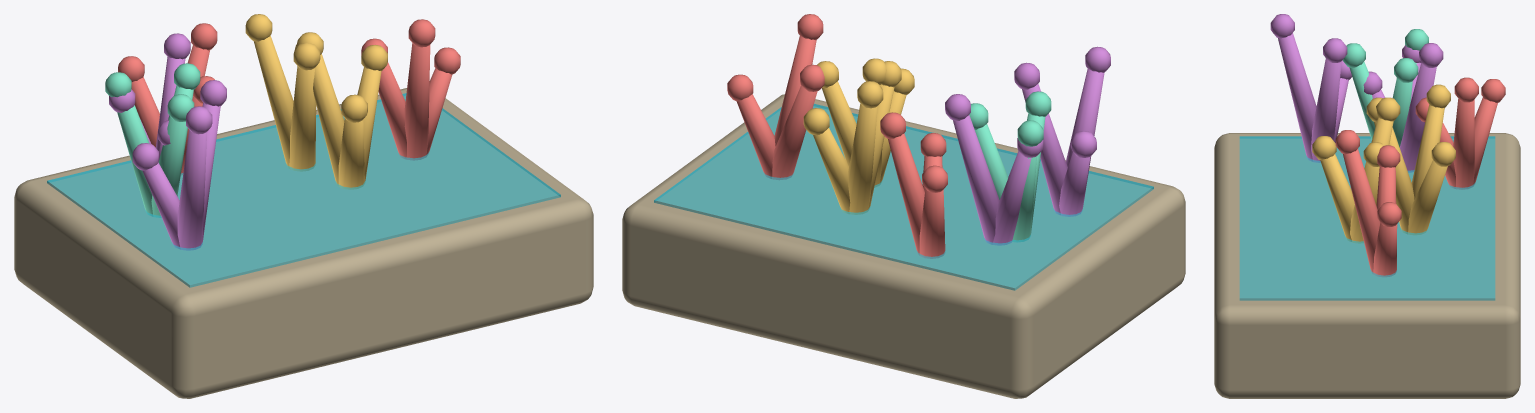
The model's file is coral.glb.
The picture shows the model from 3 angles, left to right: view 1: azimuth 30°, elevation 25°; view 2: azimuth 150°, elevation 25°; view 3: azimuth 270°, elevation 25°; orthographic projection. The views are drawn at different scales.
Parts seen in each view (by area): view 1: coral; view 2: coral; view 3: coral.
Boxes of the visible parts, left/top/right/bottom form: coral: left=14, top=14, right=593, bottom=398; coral: left=622, top=14, right=1185, bottom=398; coral: left=1214, top=14, right=1520, bottom=398.
Size of the model in its own units: 1.7 by 0.9979 by 1.2.
